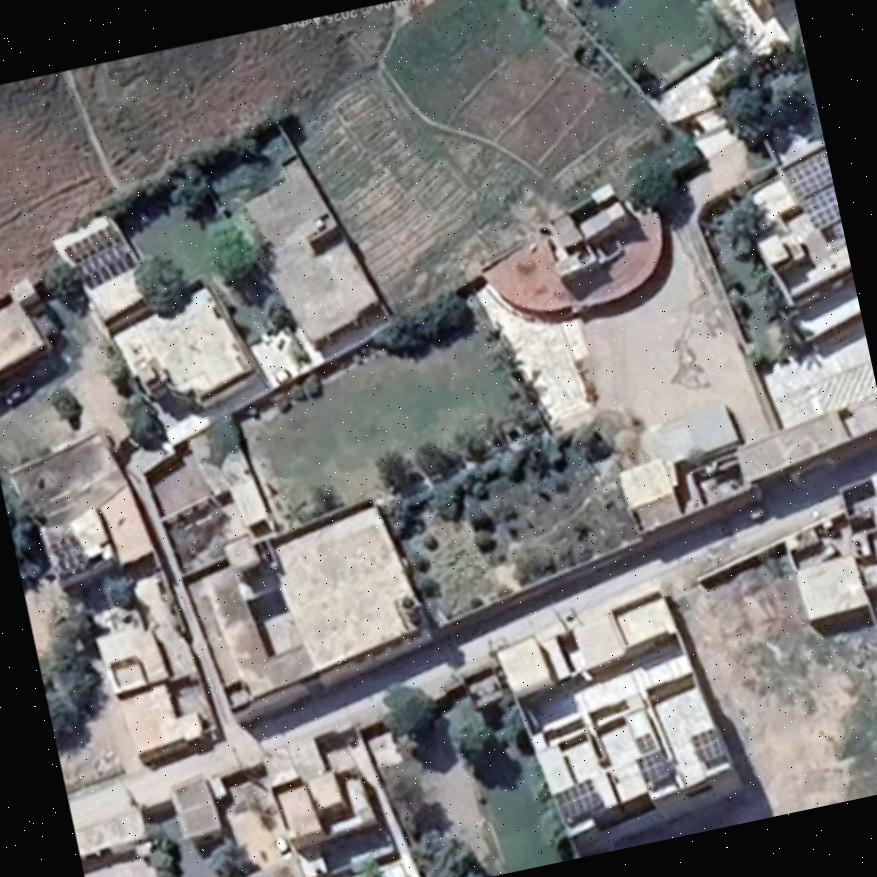Solarpanel: (783, 150, 840, 227), (554, 778, 601, 820), (77, 240, 124, 278), (688, 726, 725, 765), (633, 751, 667, 783)
